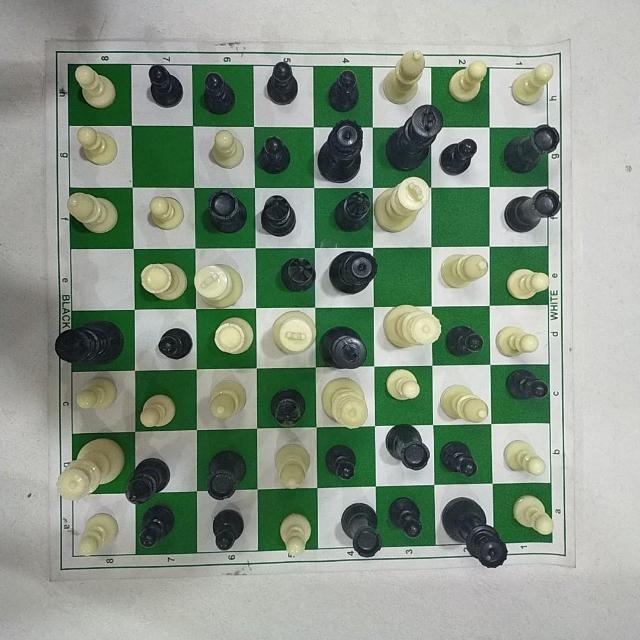black-bishop: (123, 455, 172, 506), (332, 190, 373, 234), (258, 193, 298, 238), (268, 387, 307, 429), (278, 255, 317, 294)
black-king: (383, 102, 445, 173), (51, 318, 127, 368), (318, 324, 370, 371)
black-pawn: (136, 503, 178, 551), (145, 61, 185, 110), (387, 495, 426, 542), (200, 70, 238, 118), (264, 59, 299, 107), (438, 440, 480, 480), (325, 67, 361, 113), (436, 137, 477, 177), (256, 132, 294, 175), (503, 367, 551, 401), (209, 508, 245, 552), (323, 442, 359, 483), (444, 324, 486, 358), (157, 326, 193, 362)
black-queen: (438, 493, 510, 570), (315, 117, 365, 185), (326, 248, 379, 296)
black-rook: (500, 122, 561, 176), (502, 187, 564, 235), (338, 501, 384, 560), (383, 422, 431, 472), (206, 448, 248, 502), (205, 187, 249, 235)
white-bishop: (63, 189, 121, 237), (379, 48, 426, 106), (436, 382, 491, 426), (437, 251, 490, 293), (272, 441, 312, 491), (207, 379, 249, 421)
white-king: (372, 174, 433, 235), (191, 262, 245, 310), (269, 308, 318, 357)
white-pawn: (72, 63, 118, 111), (509, 60, 555, 107), (76, 511, 120, 559), (511, 493, 557, 537), (500, 437, 548, 479), (74, 124, 119, 168), (447, 59, 489, 105), (72, 373, 119, 413), (276, 509, 314, 558), (504, 265, 552, 302), (208, 127, 246, 171), (137, 391, 179, 430), (493, 324, 541, 358), (146, 194, 186, 232), (383, 366, 423, 404)
white-queen: (54, 435, 126, 504), (380, 301, 444, 350), (318, 375, 370, 431)
white-rook: (138, 260, 190, 303), (212, 315, 256, 357)
